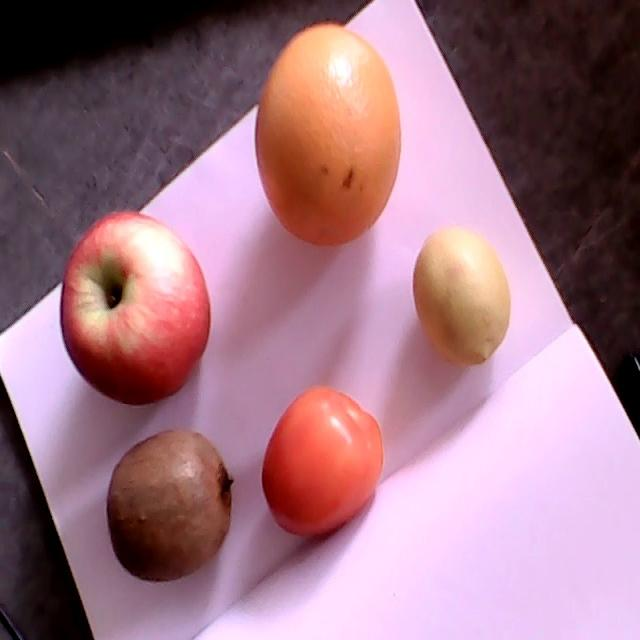apple: (61, 212, 209, 405)
kiwi: (107, 431, 234, 582)
lemon: (413, 229, 510, 368)
orange: (255, 23, 402, 244)
tomato: (260, 387, 384, 538)
